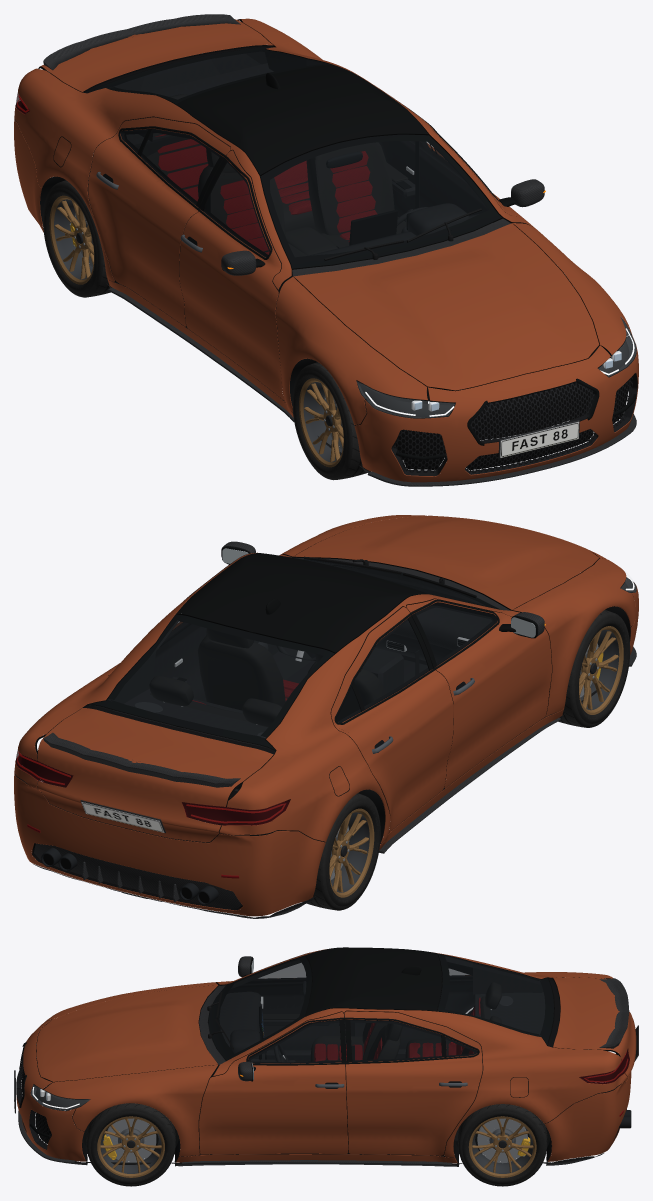
File: four-door-super-saloon.glb
3 renders of one model, top to bottom at view 1: azimuth 30°, elevation 25°; view 2: azimuth 150°, elevation 25°; view 3: azimuth 270°, elevation 25°, orthographic. The views are drawn at different scales.
Visible parts, largest first — view 1: Body, Wheel_FR, Wheel_RR; view 2: Body, Wheel_FR, Wheel_RR; view 3: Body, Wheel_RL, Wheel_FL.
Boxes of the visible parts, bbox=[...] form: Body: bbox=[14, 14, 638, 486]; Wheel_FR: bbox=[292, 362, 370, 480]; Wheel_RR: bbox=[43, 180, 111, 297]; Body: bbox=[14, 515, 638, 918]; Wheel_FR: bbox=[558, 610, 630, 727]; Wheel_RR: bbox=[303, 793, 380, 910]; Body: bbox=[14, 947, 638, 1166]; Wheel_RL: bbox=[458, 1104, 547, 1186]; Wheel_FL: bbox=[86, 1103, 175, 1186].
Bounding box in the file's own units: 2.11 × 1.45 × 4.81.
Materials: 61 (12 with a texture image).
